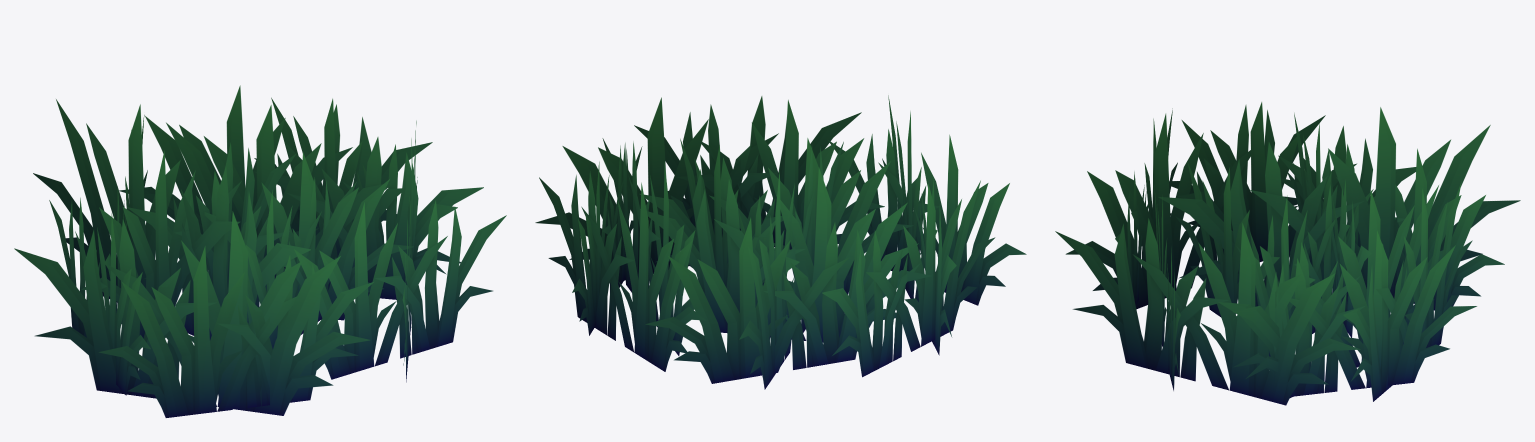
The model's file is SM_Env_Grass_01.gltf.
3 renders of one model, left to right at view 1: azimuth 30°, elevation 25°; view 2: azimuth 150°, elevation 25°; view 3: azimuth 270°, elevation 25°, orthographic. The views are drawn at different scales.
Visible parts, largest first — view 1: SM_Env_Grass_01_LOD0; view 2: SM_Env_Grass_01_LOD0; view 3: SM_Env_Grass_01_LOD0.
Boxes of the visible parts, <box> form: SM_Env_Grass_01_LOD0: <box>14,85,506,417</box>; SM_Env_Grass_01_LOD0: <box>535,95,1026,389</box>; SM_Env_Grass_01_LOD0: <box>1055,102,1520,405</box>.
Size of what is drawn, in the model's own units: 1.72 by 0.9937 by 1.73.
Materials: 1 (1 with a texture image).
